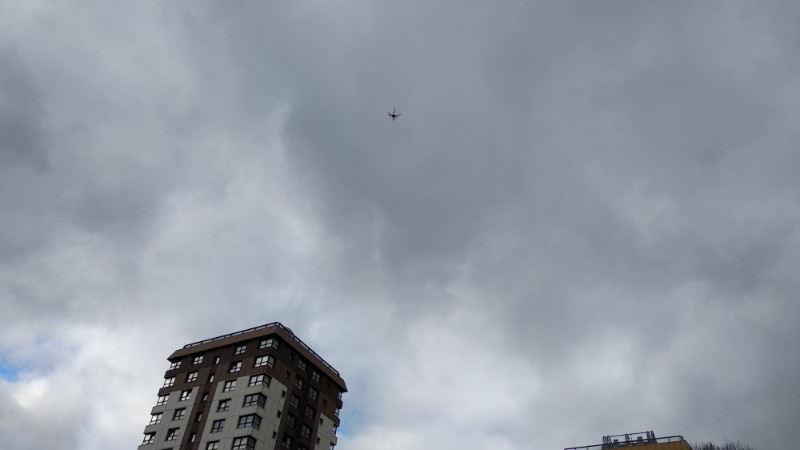drone: (387, 109, 401, 120)
